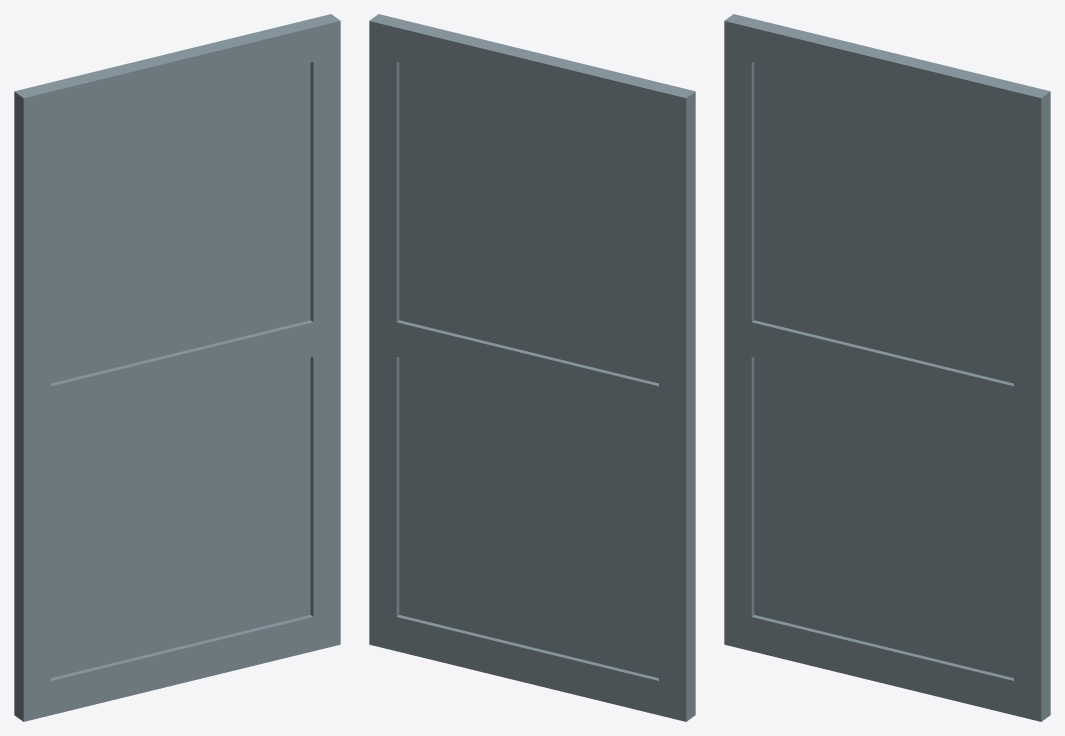
Rendered from door.leaf.1m2.glb.
3 renders of one model, left to right at view 1: azimuth 30°, elevation 25°; view 2: azimuth 150°, elevation 25°; view 3: azimuth 330°, elevation 25°, orthographic.
Parts seen in each view (by area): view 1: door.leaf.1m2; view 2: door.leaf.1m2; view 3: door.leaf.1m2.
Part boxes in pixels (bbox=[...]): door.leaf.1m2: bbox=[14, 14, 340, 721]; door.leaf.1m2: bbox=[369, 14, 695, 721]; door.leaf.1m2: bbox=[724, 14, 1050, 721].
Bounding box in the file's own units: 1.16 × 2.18 × 0.06.
